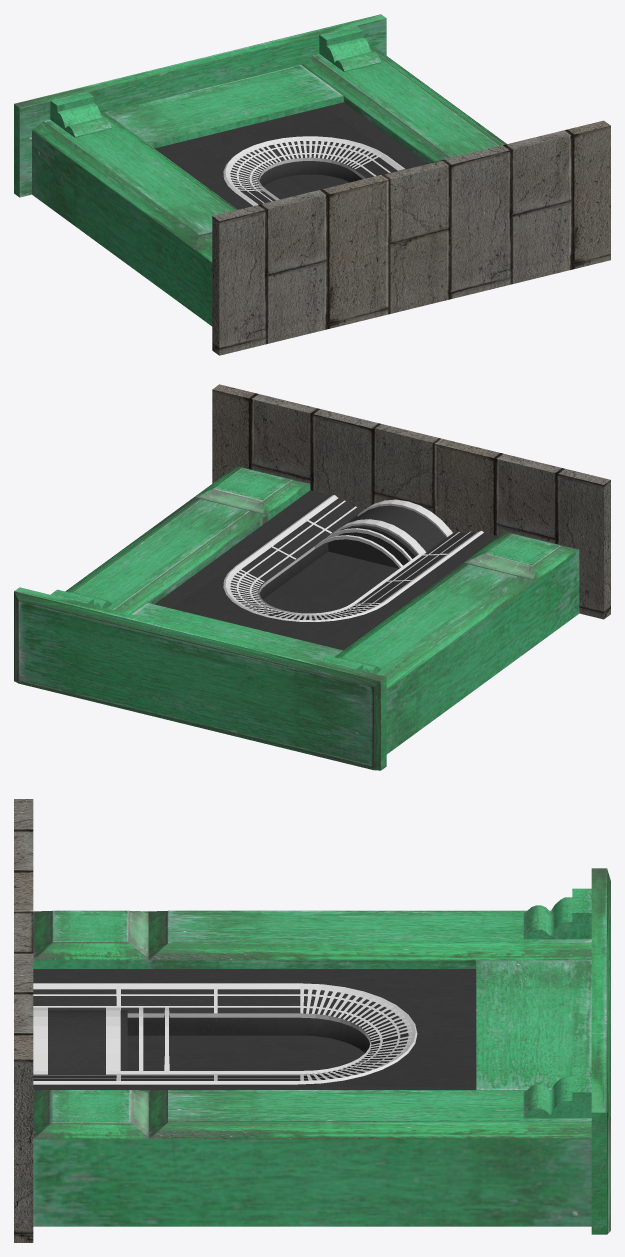
Rendered from fireplace.fbx.
3 renders of one model, top to bottom at view 1: azimuth 30°, elevation 25°; view 2: azimuth 150°, elevation 25°; view 3: azimuth 270°, elevation 25°, orthographic. The views are drawn at different scales.
Parts seen in each view (by area): view 1: fireplace; view 2: fireplace; view 3: fireplace.
Part boxes in pixels (box(x1,y1,x2,y2)): fireplace: box(14, 14, 610, 355); fireplace: box(14, 384, 610, 770); fireplace: box(14, 799, 610, 1242).
Bounding box in the file's own units: 1.6 × 0.525 × 1.55.
